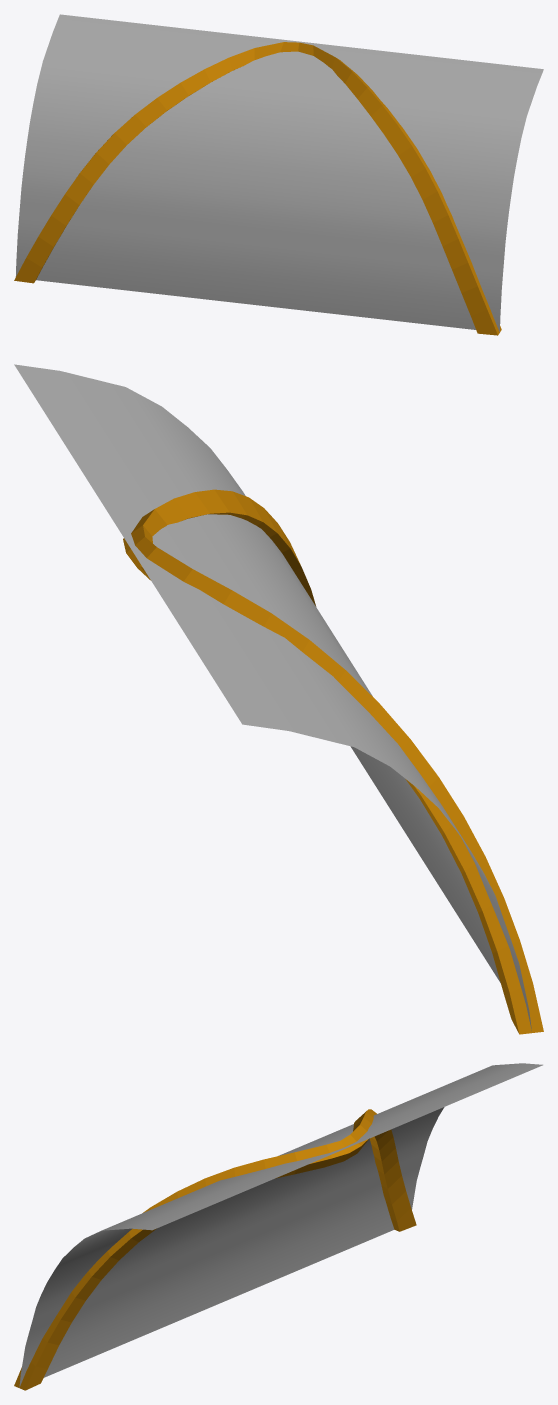
The model's file is Mesh_Turned_Curved_Ceiling_a01.fbx.
3 views of the same model, one above another, from view 1: azimuth 30°, elevation 25°; view 2: azimuth 150°, elevation 25°; view 3: azimuth 270°, elevation 25° (orthographic). The views are drawn at different scales.
Visible parts, largest first — view 1: Mesh_Turned_Curved_Ceiling_a01; view 2: Mesh_Turned_Curved_Ceiling_a01; view 3: Mesh_Turned_Curved_Ceiling_a01.
Boxes of the visible parts, x1,y1,x2,y2 form: Mesh_Turned_Curved_Ceiling_a01: (14, 14, 543, 335); Mesh_Turned_Curved_Ceiling_a01: (14, 364, 543, 1034); Mesh_Turned_Curved_Ceiling_a01: (14, 1063, 542, 1390).
Size of the model in its own units: 32.51 by 14.75 by 32.51.
